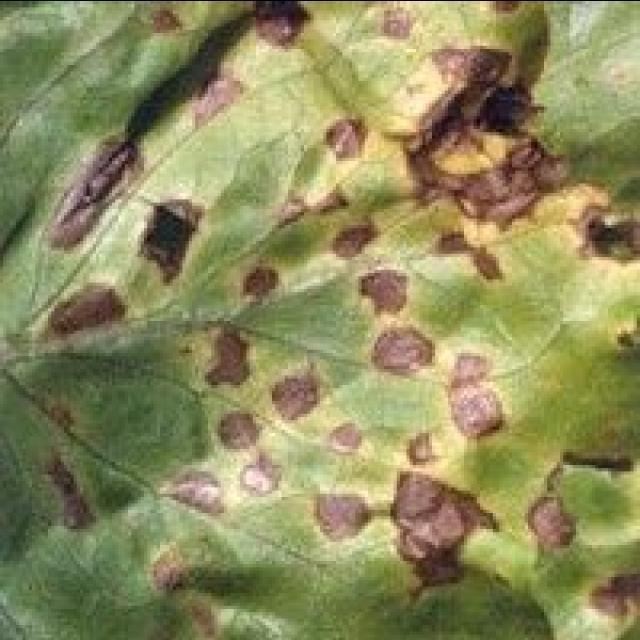Septoria_Blight_on_lettuce: (31, 9, 541, 625)
